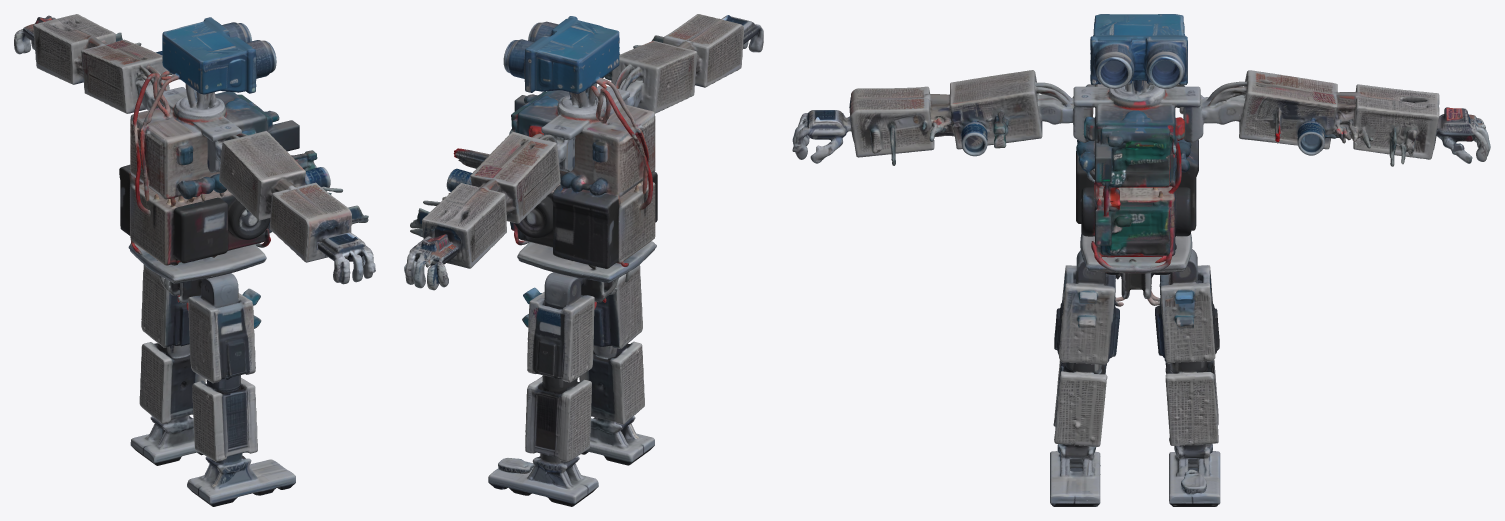
File: RougeArduino.fbx
The picture shows the model from 3 angles, left to right: view 1: azimuth 30°, elevation 25°; view 2: azimuth 150°, elevation 25°; view 3: azimuth 270°, elevation 25°; orthographic projection. The views are drawn at different scales.
Parts seen in each view (by area): view 1: tripo_node_324d1c6d; view 2: tripo_node_324d1c6d; view 3: tripo_node_324d1c6d.
Boxes of the visible parts, bbox=[...] form: tripo_node_324d1c6d: bbox=[14, 14, 375, 506]; tripo_node_324d1c6d: bbox=[404, 14, 763, 506]; tripo_node_324d1c6d: bbox=[792, 14, 1490, 506].
Bounding box in the file's own units: 0.26 × 0.726 × 1.
